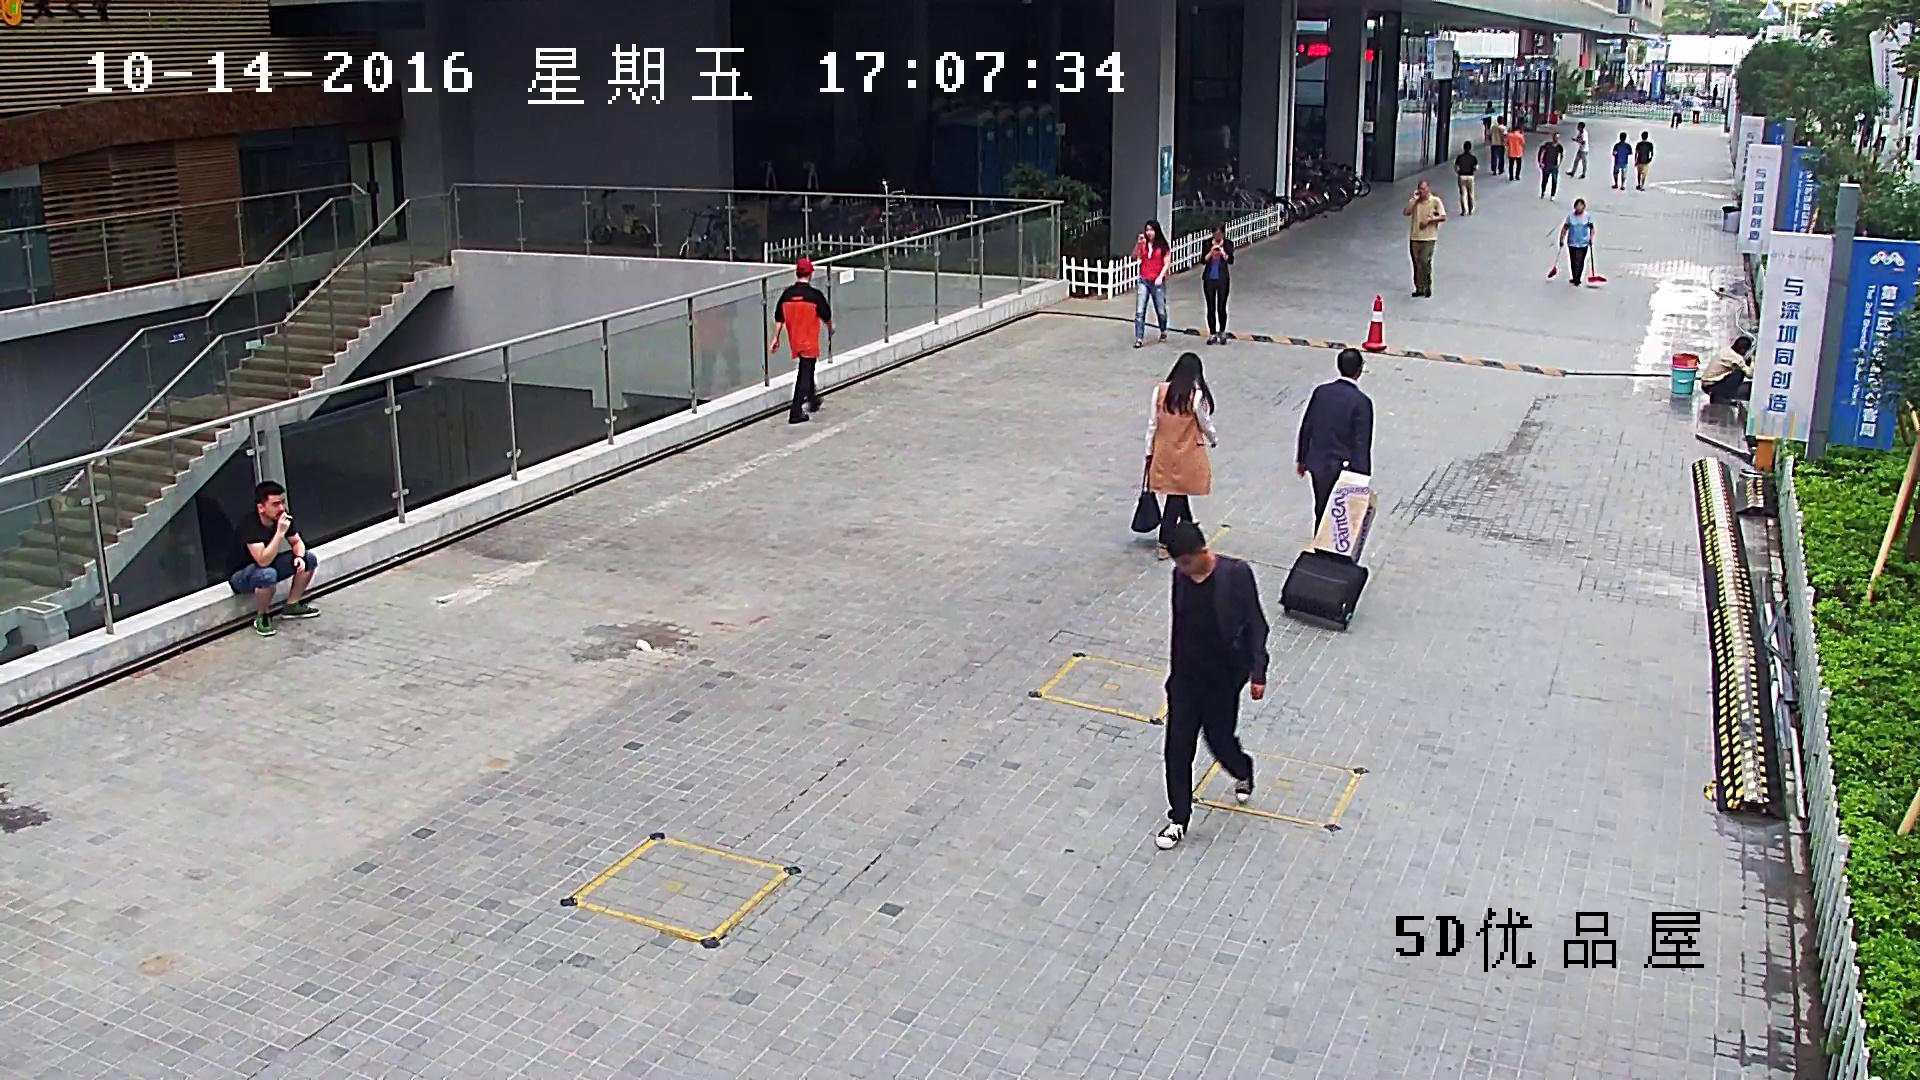person: (1154, 524, 1273, 851), (1278, 349, 1376, 630), (1132, 353, 1217, 560), (226, 480, 321, 637), (1294, 350, 1373, 536), (769, 257, 834, 424), (1546, 198, 1605, 286), (1133, 219, 1172, 349), (1403, 179, 1444, 298), (1198, 221, 1234, 345), (1701, 335, 1755, 406), (1558, 199, 1596, 287), (1537, 131, 1563, 201), (1454, 140, 1477, 215), (1565, 122, 1589, 178), (1503, 124, 1526, 181), (1612, 132, 1632, 190), (1488, 116, 1508, 174), (1634, 132, 1654, 190), (1481, 101, 1495, 147), (1670, 93, 1682, 127), (1691, 94, 1702, 123), (1513, 101, 1527, 124)
